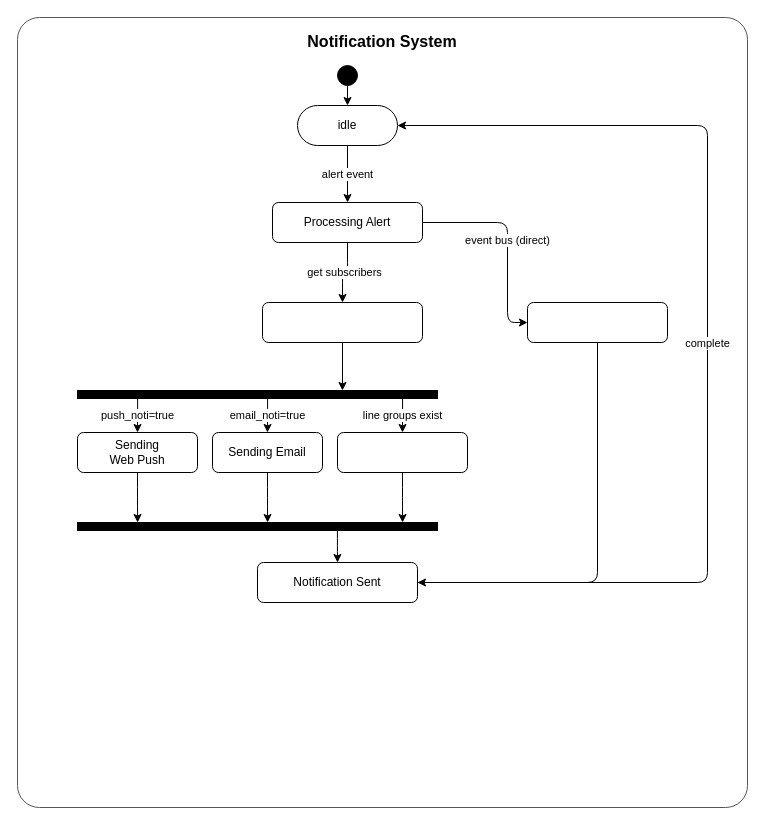
This 765x825 diagram has some shape labels left out. Here are the shapes that lost their labels. From the top down, the box of each, then its label:
(262, 302, 422, 342): Checking Subscribers
(526, 302, 668, 342): Sending In-App
(336, 432, 468, 472): Sending LINE (Broadcast + Groups)
